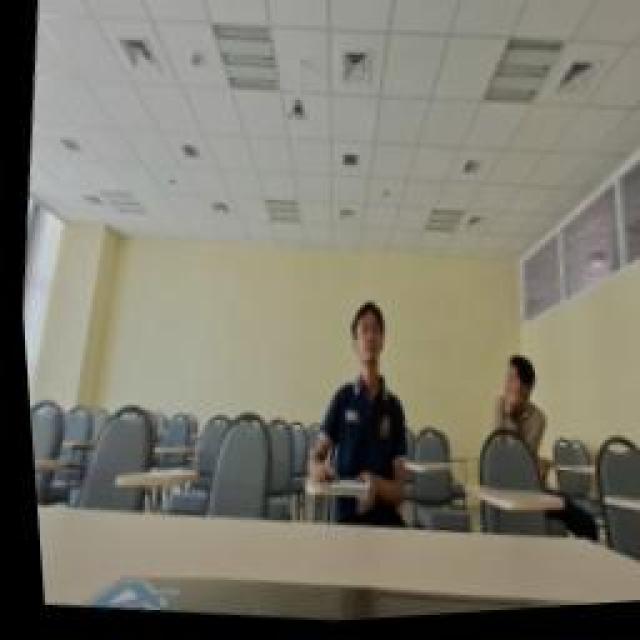study: (280, 285, 422, 543), (465, 340, 557, 502)
